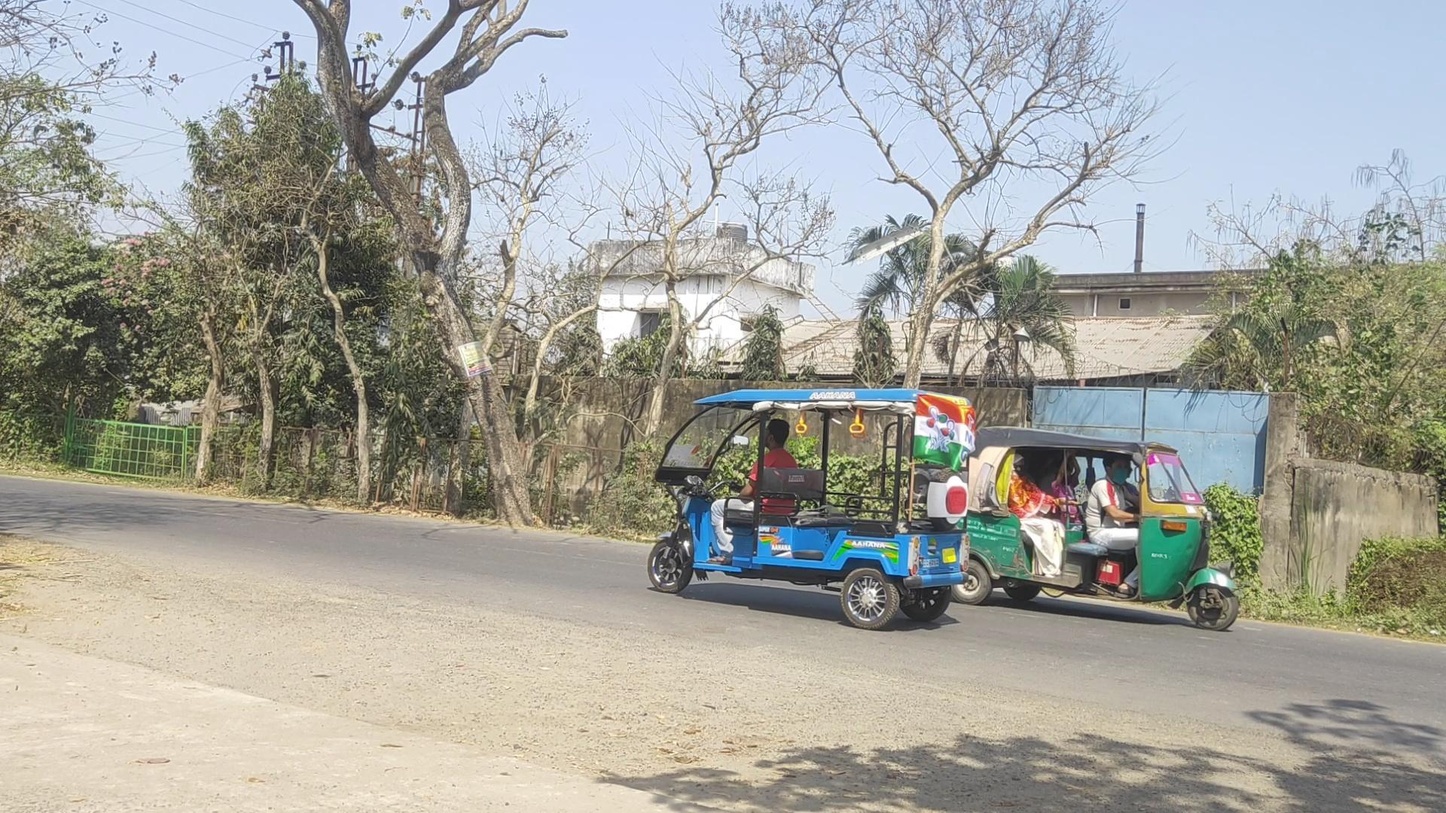Auto: (647, 388, 976, 630), (948, 425, 1239, 631)
